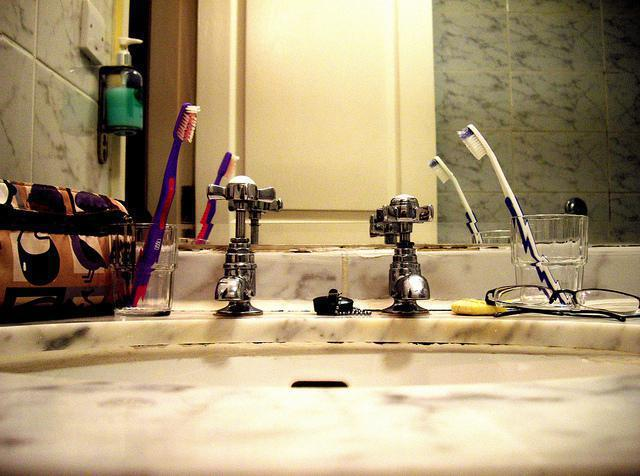Lavamanos: (0, 172, 639, 411)
